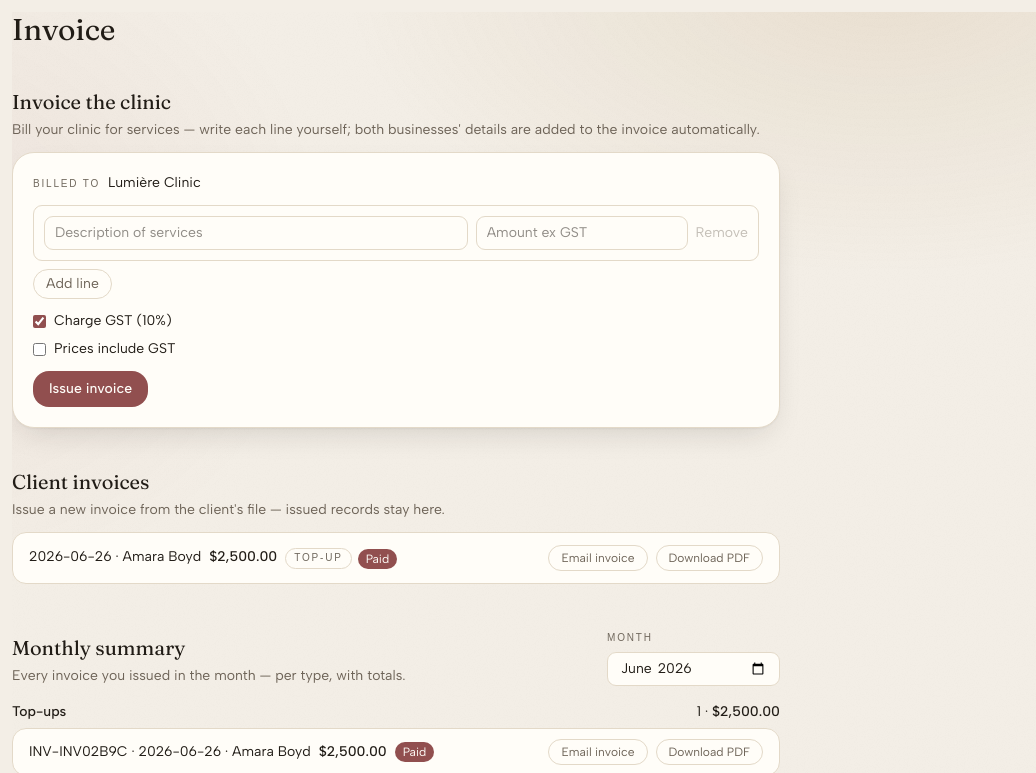
Invoice the clinic — composer › issues a final service-fee invoice from handwritten lines with a live totals preview
The image size is (1036, 773).
Type "Cosmetic nursing services — June" into the field named "Line 1 description" at (256, 233), box [44,216,468,250]
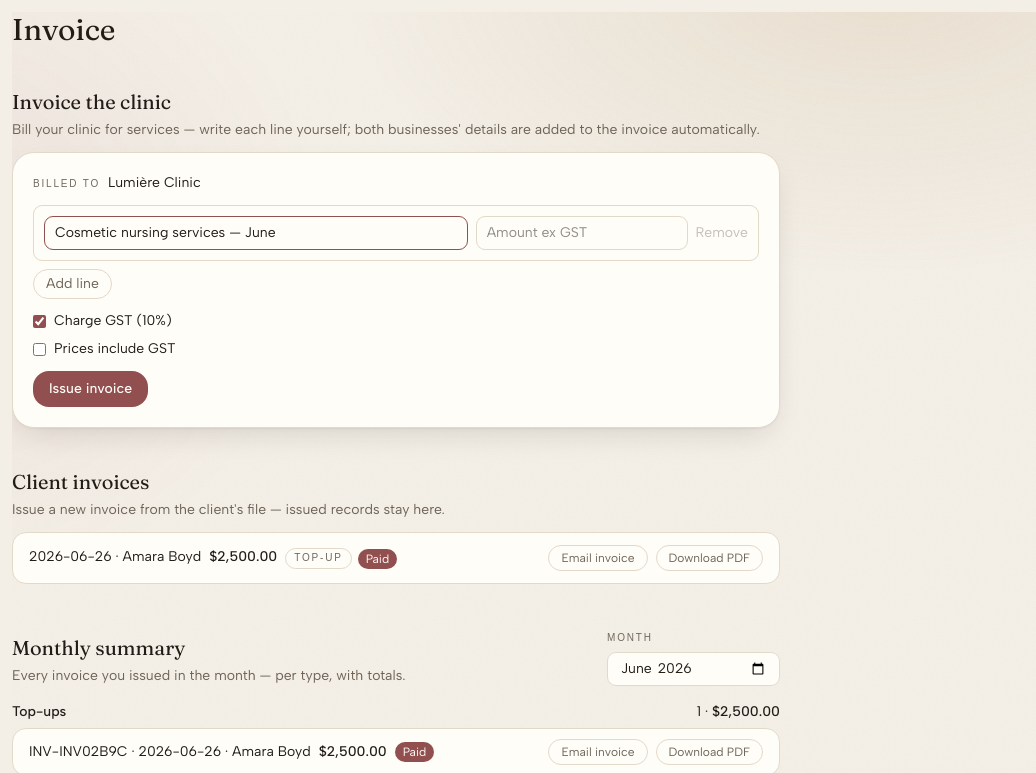
Type "1000" into the field named "Line 1 amount" at (582, 233), box [476,216,688,250]
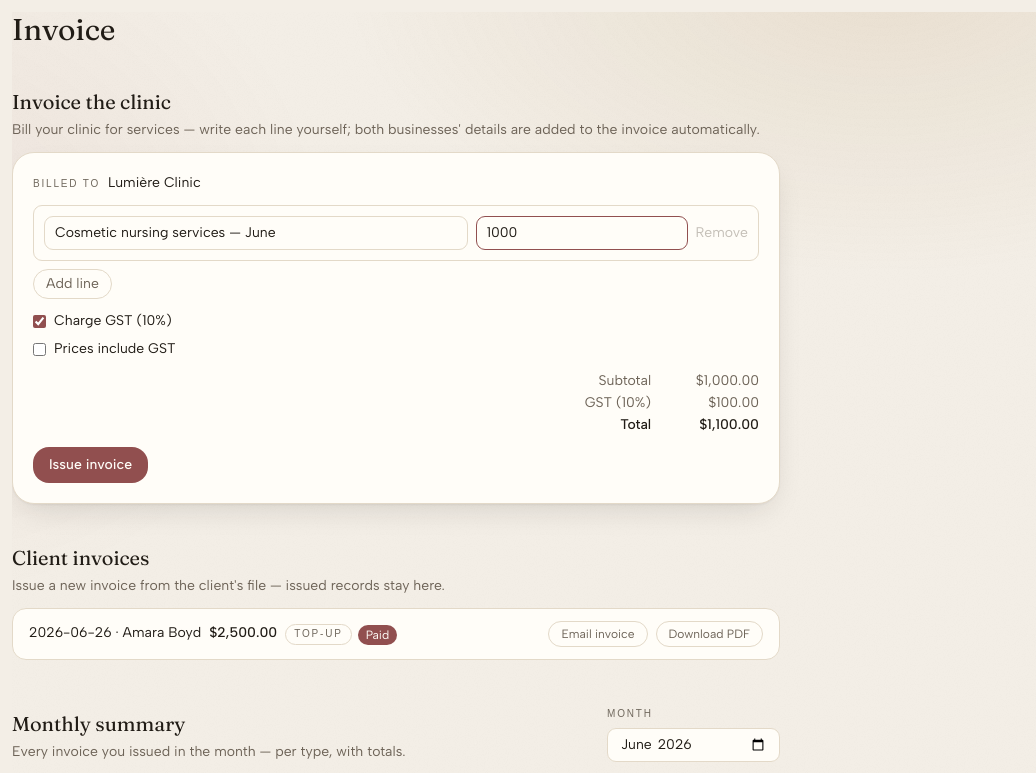
Click the button "Add line" at (72, 284), box [33,269,112,299]
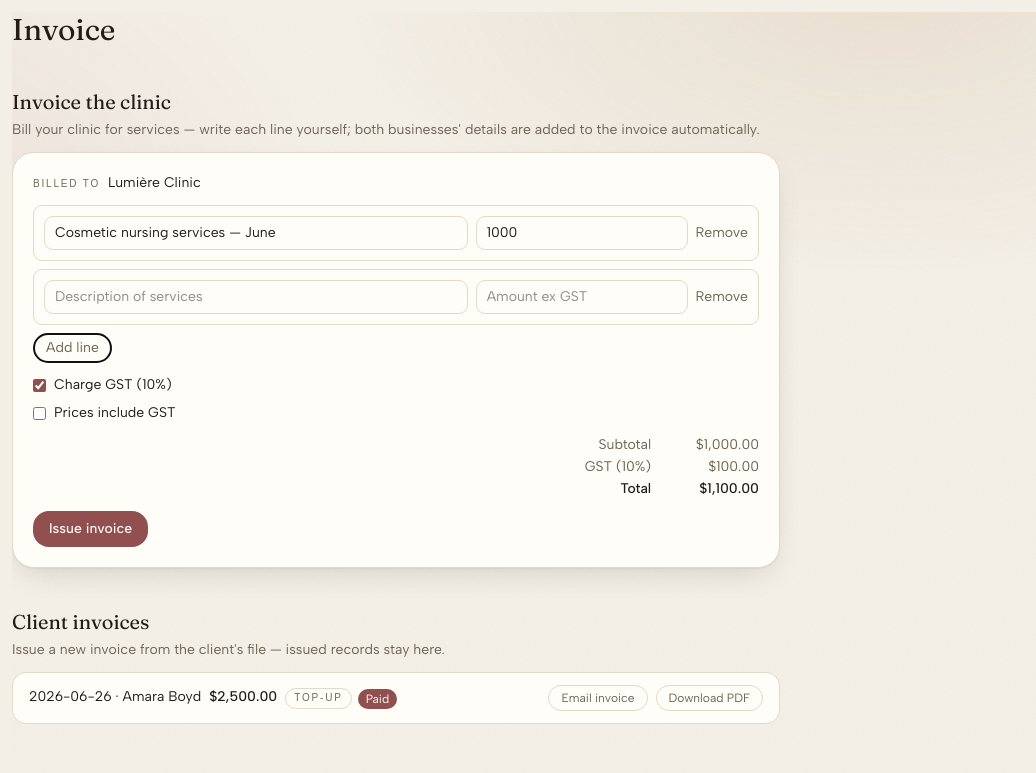
Type "Travel" into the field named "Line 2 description" at (256, 297), box [44,280,468,314]
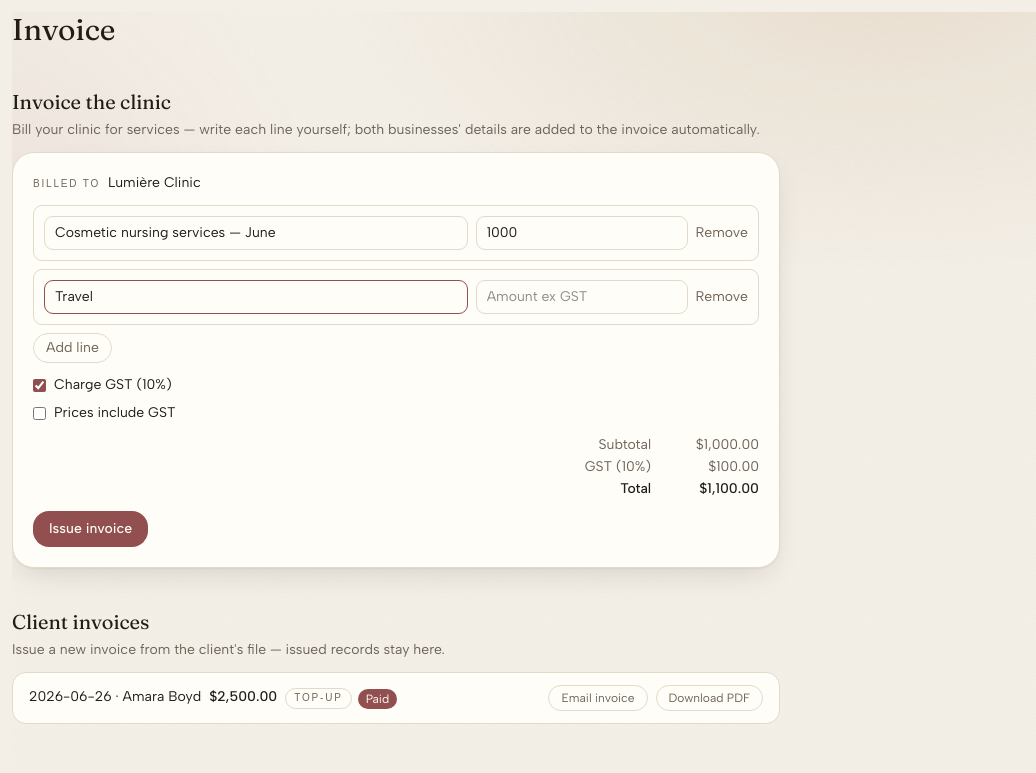
Type "50" into the field named "Line 2 amount" at (582, 297), box [476,280,688,314]
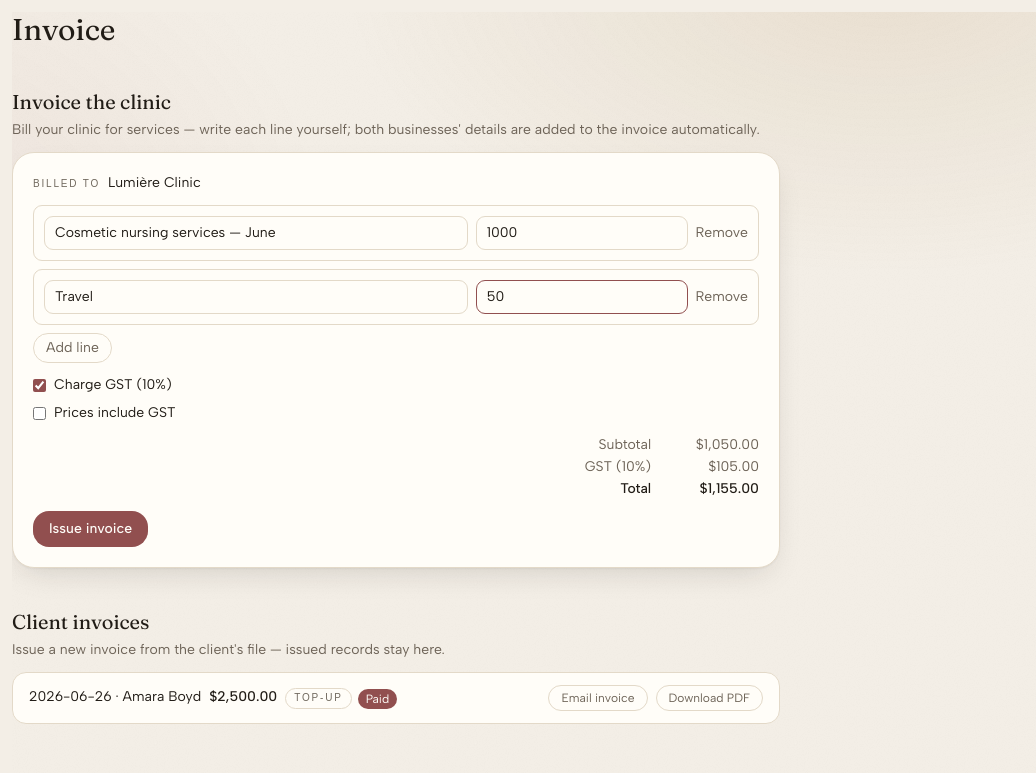
Now the text "$1,050.00" is shown, box [696,436,759,453]
Now the text "$105.00" is shown, box [708,458,759,475]
Now the text "$1,155.00" is shown, box [700,480,759,497]
Click the button "Issue invoice" at (91, 529), box [33,511,148,547]
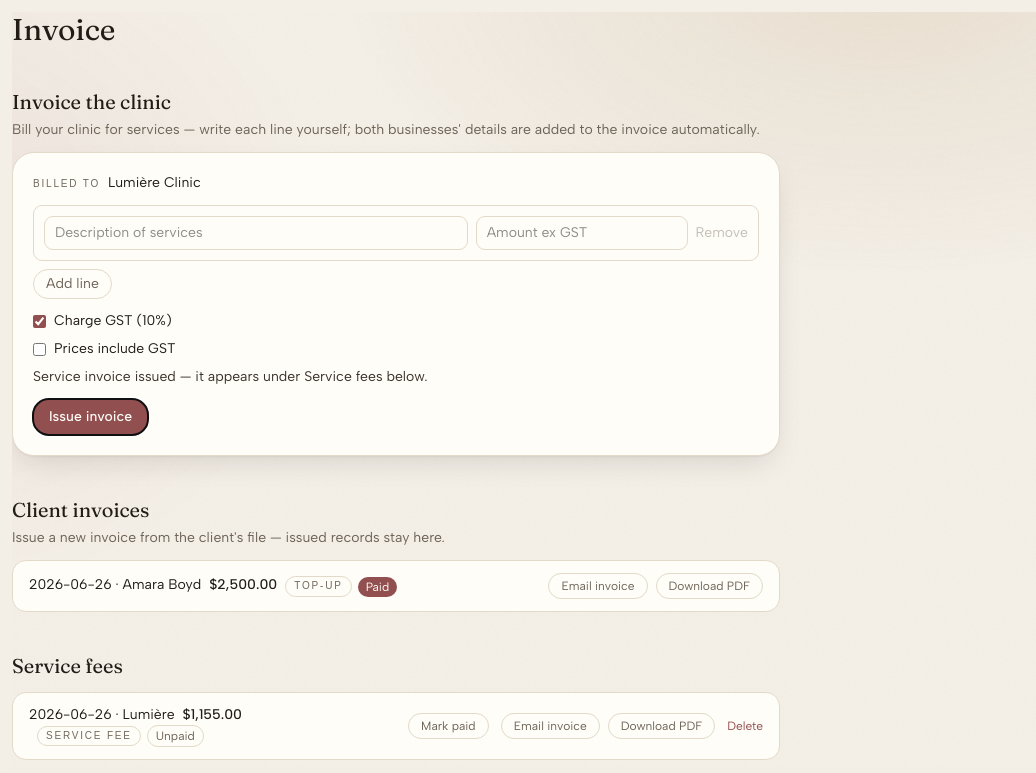
Now the text "$1,155.00" is shown, box [182,706,242,723]
Now the text "Service invoice issued" is shown, box [33,368,428,385]
